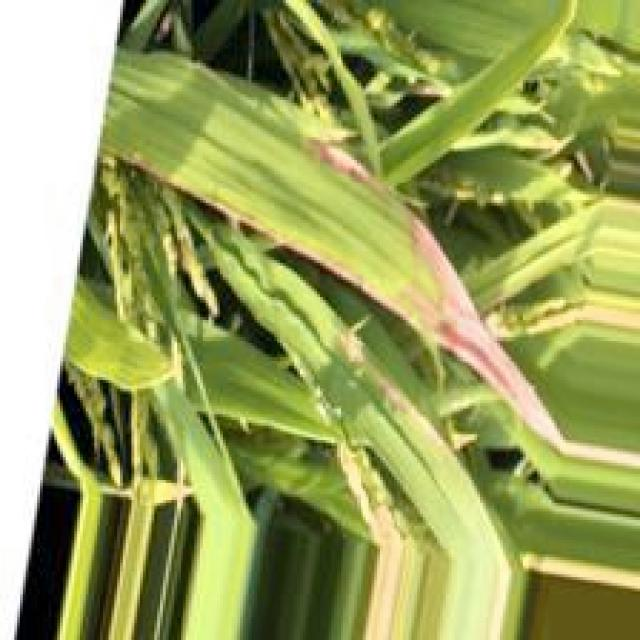Unhealthy: (350, 215, 567, 457), (314, 135, 382, 184)
